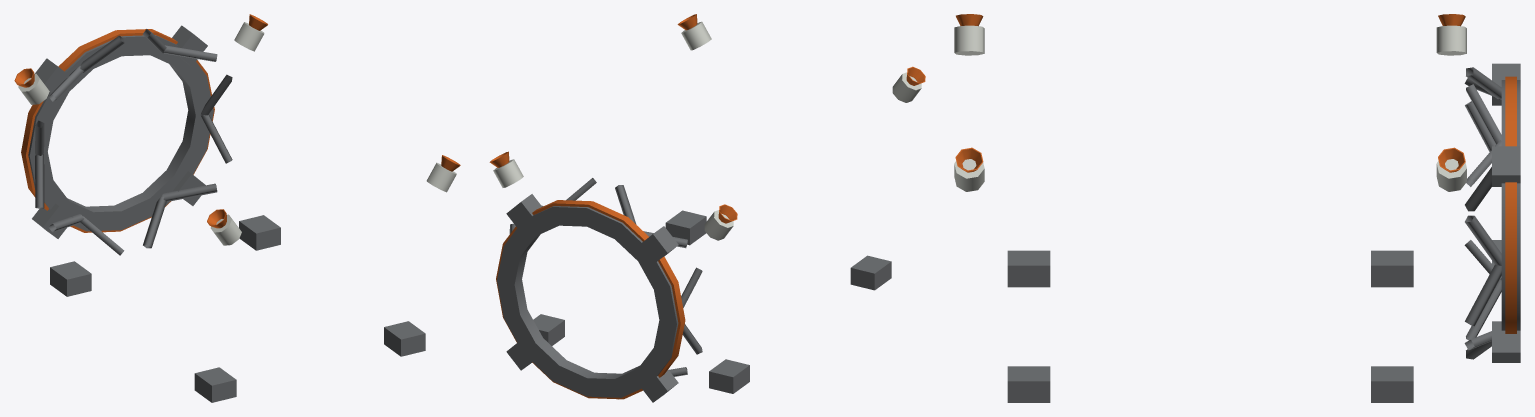
Rendered from p20_separation.obj.
3 renders of one model, left to right at view 1: azimuth 30°, elevation 25°; view 2: azimuth 150°, elevation 25°; view 3: azimuth 270°, elevation 25°, orthographic. The views are drawn at different scales.
Visible parts, largest first — view 1: p20_separation; view 2: p20_separation; view 3: p20_separation.
Part boxes in pixels (left/top/right/bottom): p20_separation: left=14, top=14, right=460, bottom=402; p20_separation: left=489, top=14, right=925, bottom=402; p20_separation: left=954, top=14, right=1520, bottom=402.
Size of the model in its own units: 3.05 by 2.55 by 4.76.
